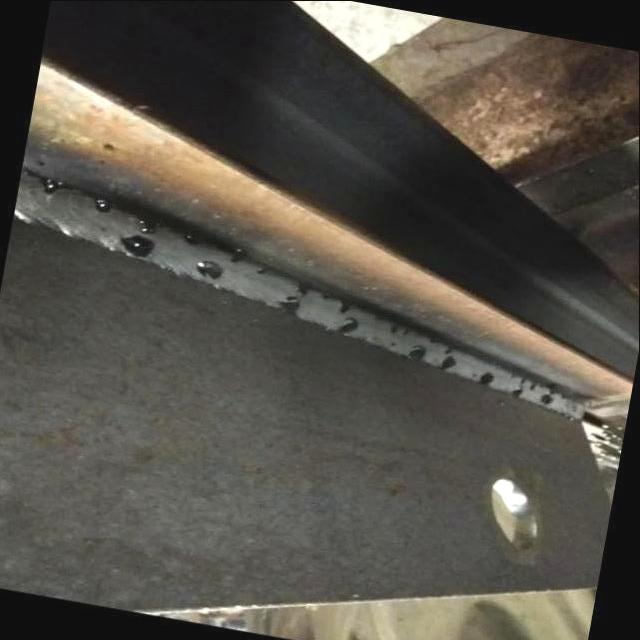defect: (116, 213, 163, 259), (271, 291, 305, 318), (194, 257, 230, 280), (510, 373, 539, 399), (88, 195, 116, 216), (469, 370, 499, 388), (438, 346, 459, 371), (338, 316, 363, 336), (406, 345, 431, 360), (231, 245, 251, 263), (336, 297, 353, 314), (539, 389, 556, 406), (184, 229, 201, 245), (390, 325, 413, 336), (296, 282, 312, 297), (256, 266, 271, 276), (323, 292, 332, 302), (388, 339, 398, 348)
